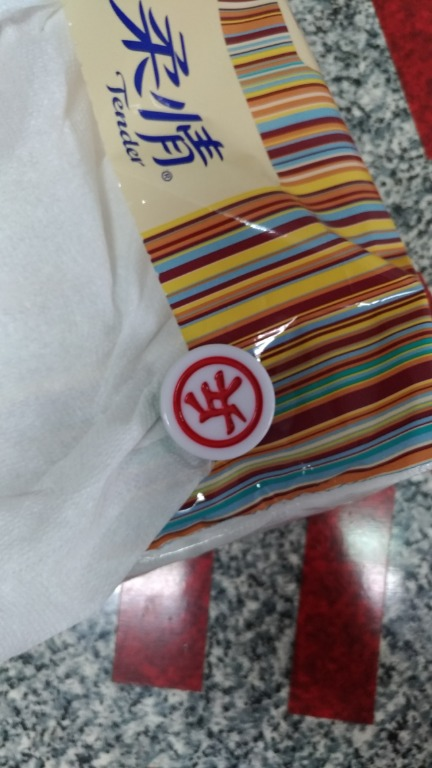r-pawn: (157, 338, 284, 468)
